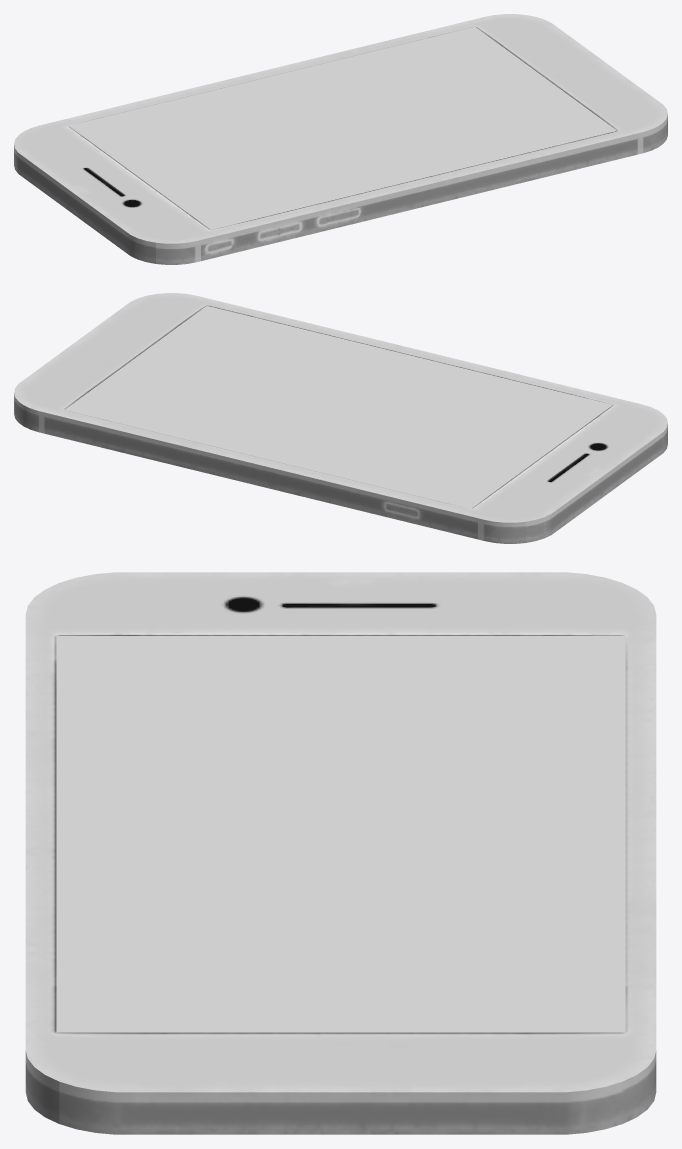
File: SM_Phone 1.fbx
3 renders of one model, top to bottom at view 1: azimuth 30°, elevation 25°; view 2: azimuth 150°, elevation 25°; view 3: azimuth 270°, elevation 25°, orthographic. The views are drawn at different scales.
Parts seen in each view (by area): view 1: SM_Phone_LOD0_Screen, SM_Phone_LOD0; view 2: SM_Phone_LOD0_Screen, SM_Phone_LOD0; view 3: SM_Phone_LOD0_Screen, SM_Phone_LOD0.
Boxes of the visible parts, box(x1,y1,x2,y2) form: SM_Phone_LOD0_Screen: box(69, 27, 616, 229); SM_Phone_LOD0: box(14, 14, 667, 264); SM_Phone_LOD0_Screen: box(65, 306, 612, 508); SM_Phone_LOD0: box(14, 293, 667, 543); SM_Phone_LOD0_Screen: box(56, 636, 625, 1032); SM_Phone_LOD0: box(25, 572, 656, 1134).
Size of the model in its own units: 24.53 by 0.9342 by 12.57.
